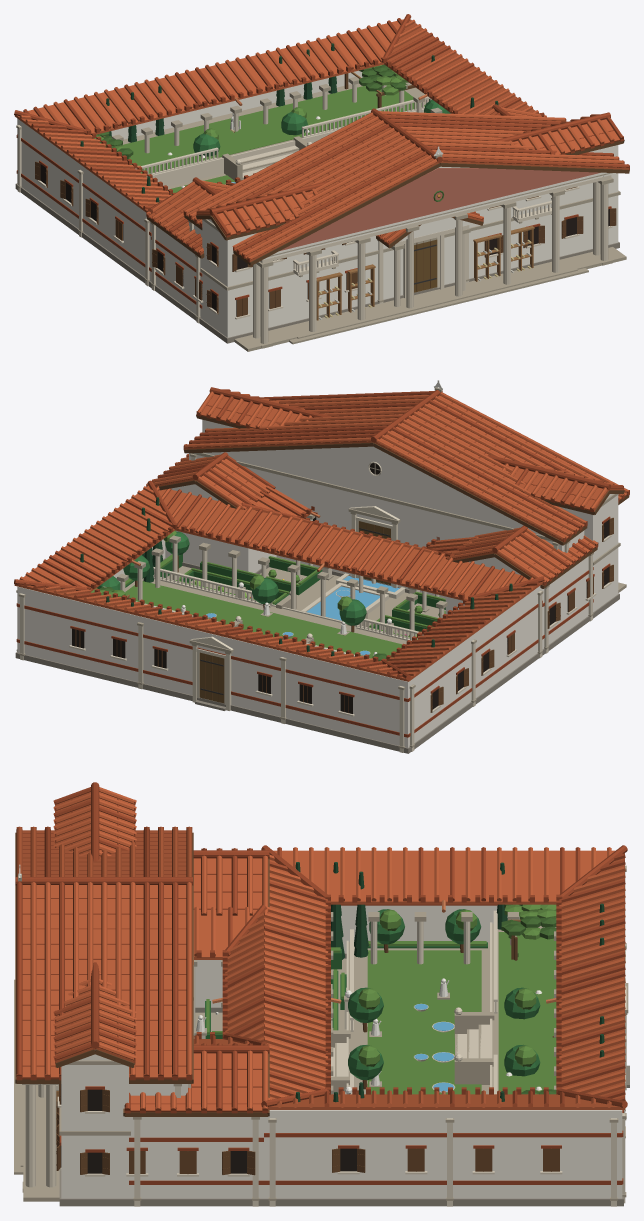
File: Stadtpalast.fbx
The picture shows the model from 3 angles, top to bottom: view 1: azimuth 30°, elevation 25°; view 2: azimuth 150°, elevation 25°; view 3: azimuth 270°, elevation 25°; orthographic projection. The views are drawn at different scales.
Visible parts, largest first — view 1: Stadtpalast_0, Stadtpalast_1; view 2: Stadtpalast_0, Stadtpalast_1; view 3: Stadtpalast_0, Stadtpalast_1.
Part boxes in pixels (x1,y1,x2,y2): Stadtpalast_0: (14,14,624,343); Stadtpalast_1: (80,43,629,351); Stadtpalast_0: (14,387,624,753); Stadtpalast_1: (80,380,629,661); Stadtpalast_0: (38,782,629,1206); Stadtpalast_1: (14,826,604,1201).
Bounding box in the file's own units: 7.28 × 2.79 × 7.29.
